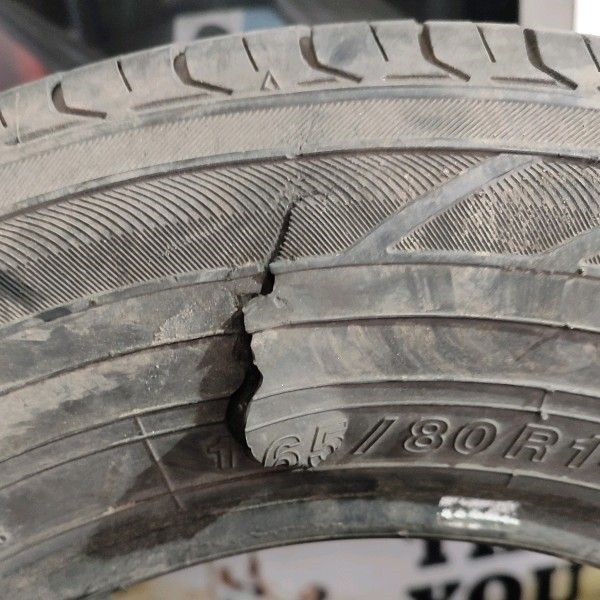bead_damage: (217, 190, 354, 476)
